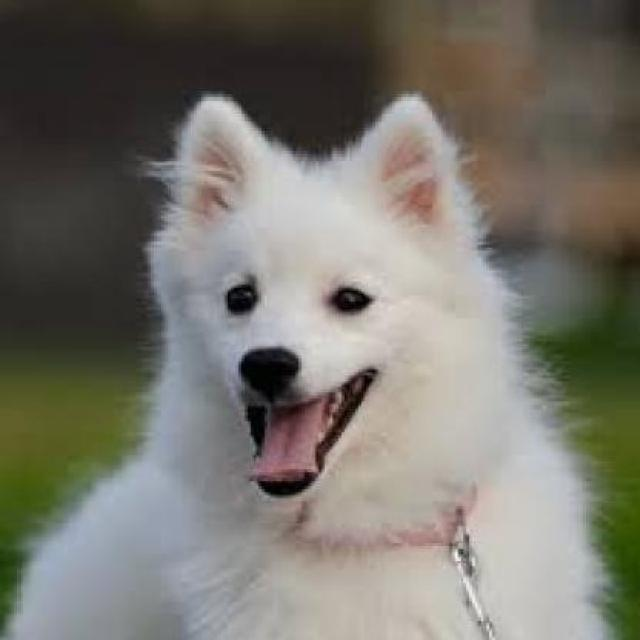animals: (21, 90, 613, 636)
